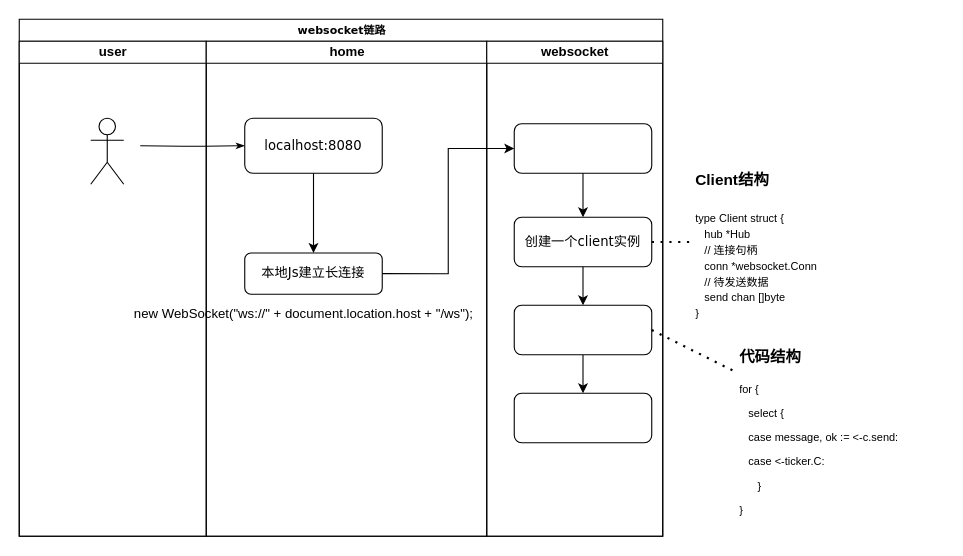
The diagram is 963 pixels wide and 556 high, and some of its shapes have lost their labels. The box of each missing label's shape, as (x1, y1, x2, y2) in pixels:
Actor: (90, 117, 124, 184)
创建发送消息协程: (513, 304, 652, 355)
创建监听消息协程: (513, 392, 652, 443)
长连接地址 ws://localhost:8080/ws: (513, 123, 652, 173)
